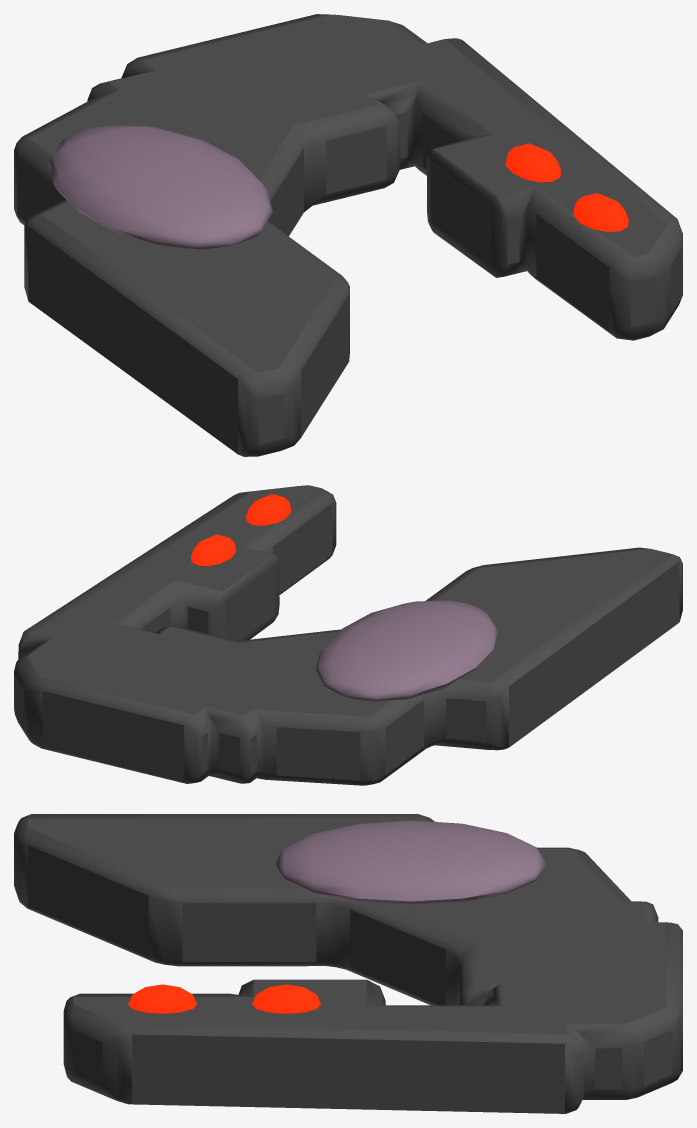
Rendered from arch_ship.glb.
The picture shows the model from 3 angles, top to bottom: view 1: azimuth 30°, elevation 25°; view 2: azimuth 150°, elevation 25°; view 3: azimuth 270°, elevation 25°; orthographic projection. The views are drawn at different scales.
Parts seen in each view (by area): view 1: plate, panel, light, light.001; view 2: plate, panel, light, light.001; view 3: plate, panel, light, light.001.
Part boxes in pixels (bbox=[...]): plate: bbox=[14, 14, 682, 456]; panel: bbox=[48, 125, 272, 249]; light: bbox=[573, 193, 628, 231]; light.001: bbox=[505, 143, 561, 182]; plate: bbox=[14, 485, 682, 785]; panel: bbox=[315, 600, 497, 701]; light: bbox=[246, 494, 291, 525]; light.001: bbox=[191, 534, 235, 566]; plate: bbox=[14, 814, 682, 1113]; panel: bbox=[274, 820, 546, 904]; light: bbox=[128, 984, 197, 1013]; light.001: bbox=[252, 984, 320, 1013].
Bounding box in the file's own units: 21.96 × 4.6 × 27.
